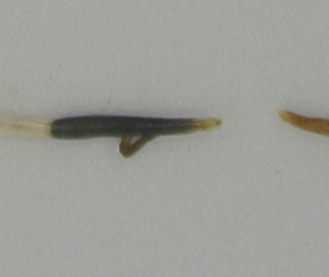เมล็ดงอกแตก: (2, 111, 226, 157)
